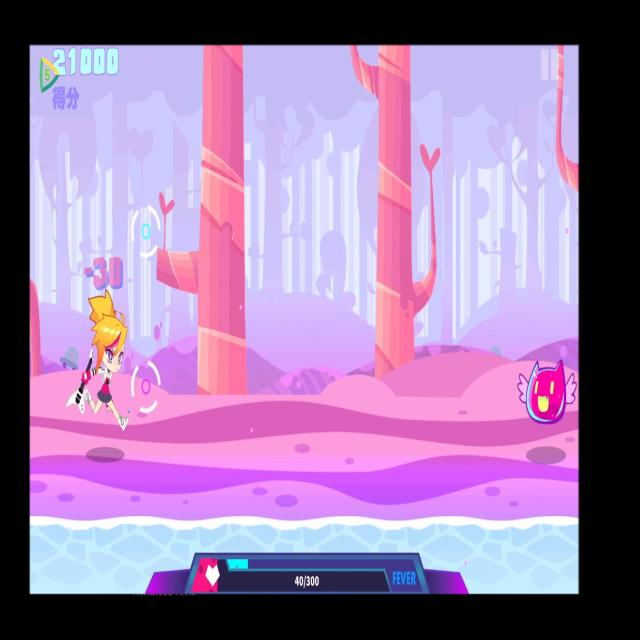Ground Monster - Red Devil: (516, 355, 577, 431)
